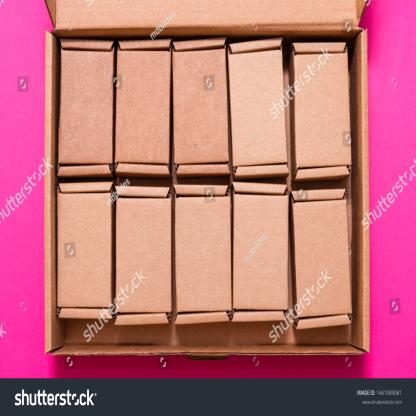box: (230, 36, 288, 177), (294, 189, 350, 333), (294, 42, 352, 179), (57, 38, 113, 178), (114, 186, 171, 323), (115, 40, 171, 177), (58, 182, 114, 319), (173, 38, 230, 172), (176, 186, 230, 326), (235, 180, 288, 322)
